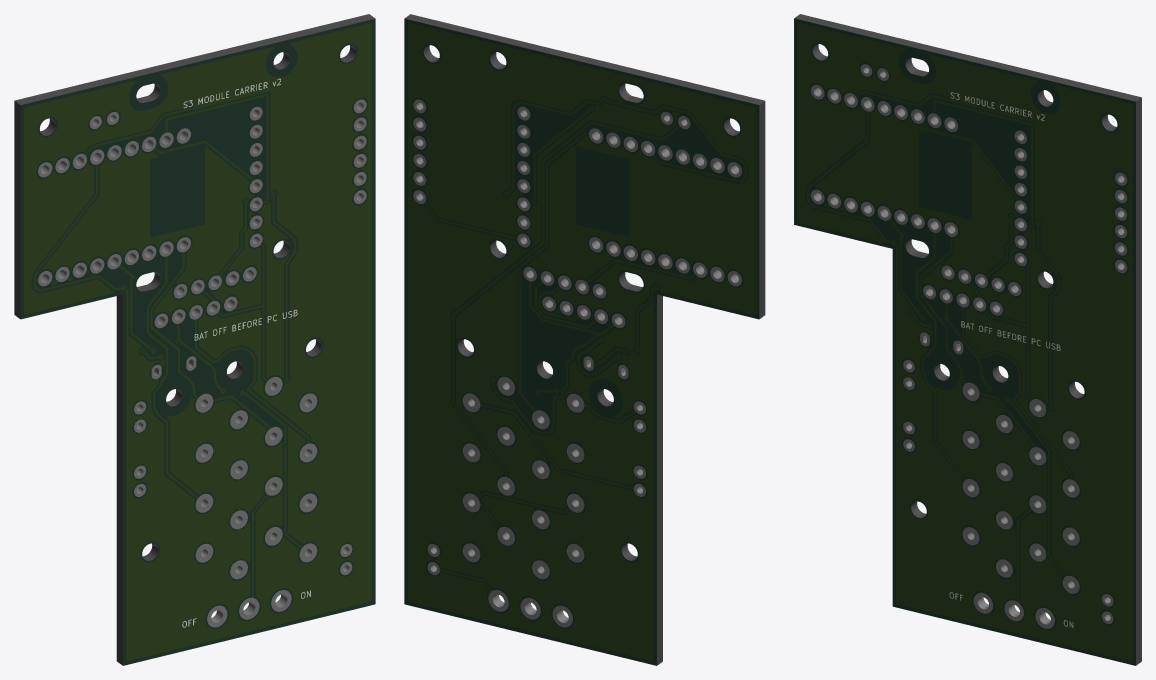
Rendered from preview-local-mount.obj.
The picture shows the model from 3 angles, left to right: view 1: azimuth 30°, elevation 25°; view 2: azimuth 150°, elevation 25°; view 3: azimuth 330°, elevation 25°; orthographic projection. The views are drawn at different scales.
Visible parts, largest first — view 1: grp8031, grp14019, grp1, grp57639, grp11963; view 2: grp8031, grp14019, grp1, grp57639; view 3: grp8031, grp14019, grp1, grp57639, grp11963.
Boxes of the visible parts, x1,y1,x2,y2 form: grp8031: (14, 14, 375, 665); grp14019: (24, 23, 371, 660); grp1: (14, 14, 374, 665); grp57639: (38, 99, 366, 627); grp11963: (182, 78, 310, 627); grp8031: (404, 18, 759, 665); grp14019: (408, 23, 755, 660); grp1: (405, 14, 765, 665); grp57639: (413, 99, 741, 627); grp8031: (794, 14, 1141, 665); grp14019: (798, 23, 1131, 660); grp1: (794, 14, 1141, 665); grp57639: (810, 64, 1127, 628); grp11963: (949, 92, 1073, 627).
Bounding box in the file's own units: 52 × 82 × 1.63.
